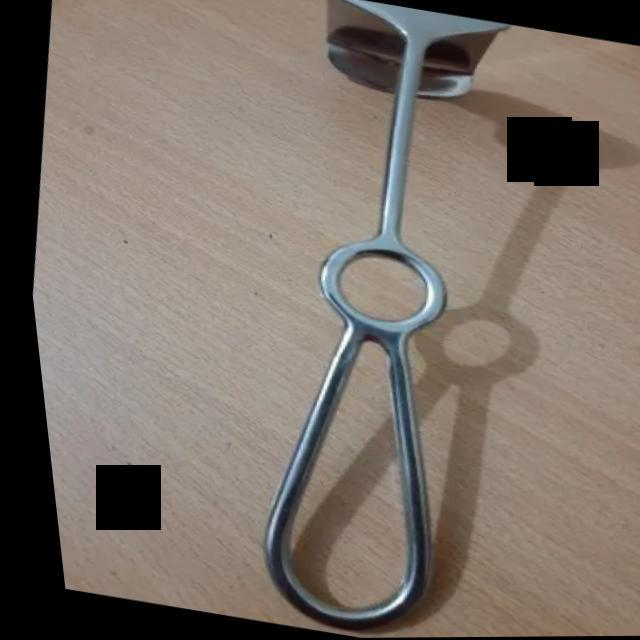Morris Retractor: (153, 0, 580, 639)
